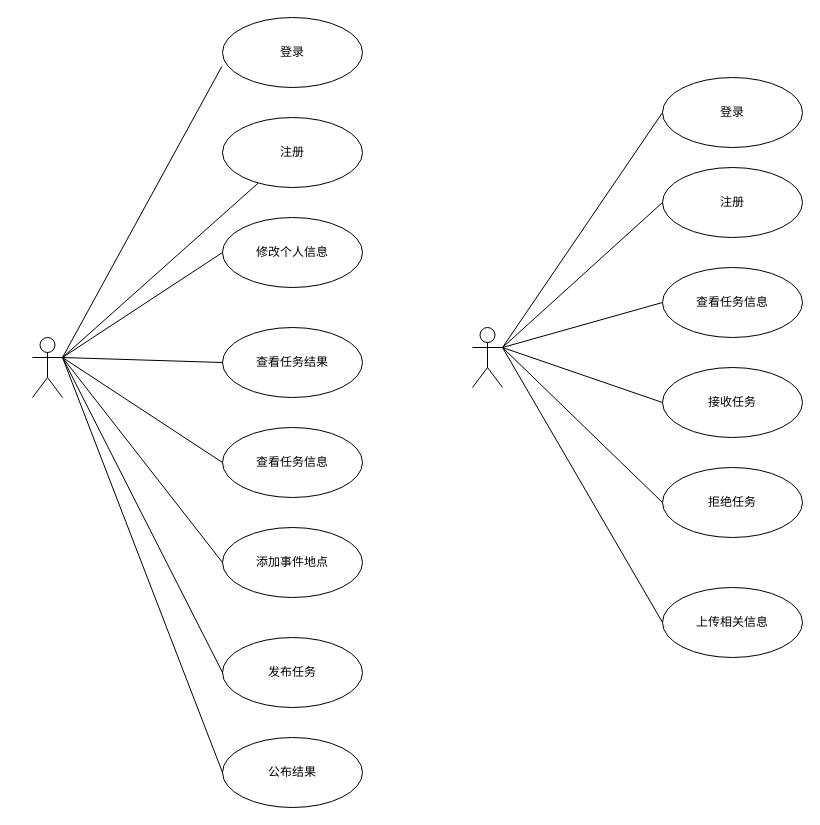
Image size: 820x825. Some labels were removed from this diagram. Each missing label, with the box of its shape:
任务发布者: (32, 336, 62, 398)
任务执行者 （提供信息）: (472, 326, 502, 388)
